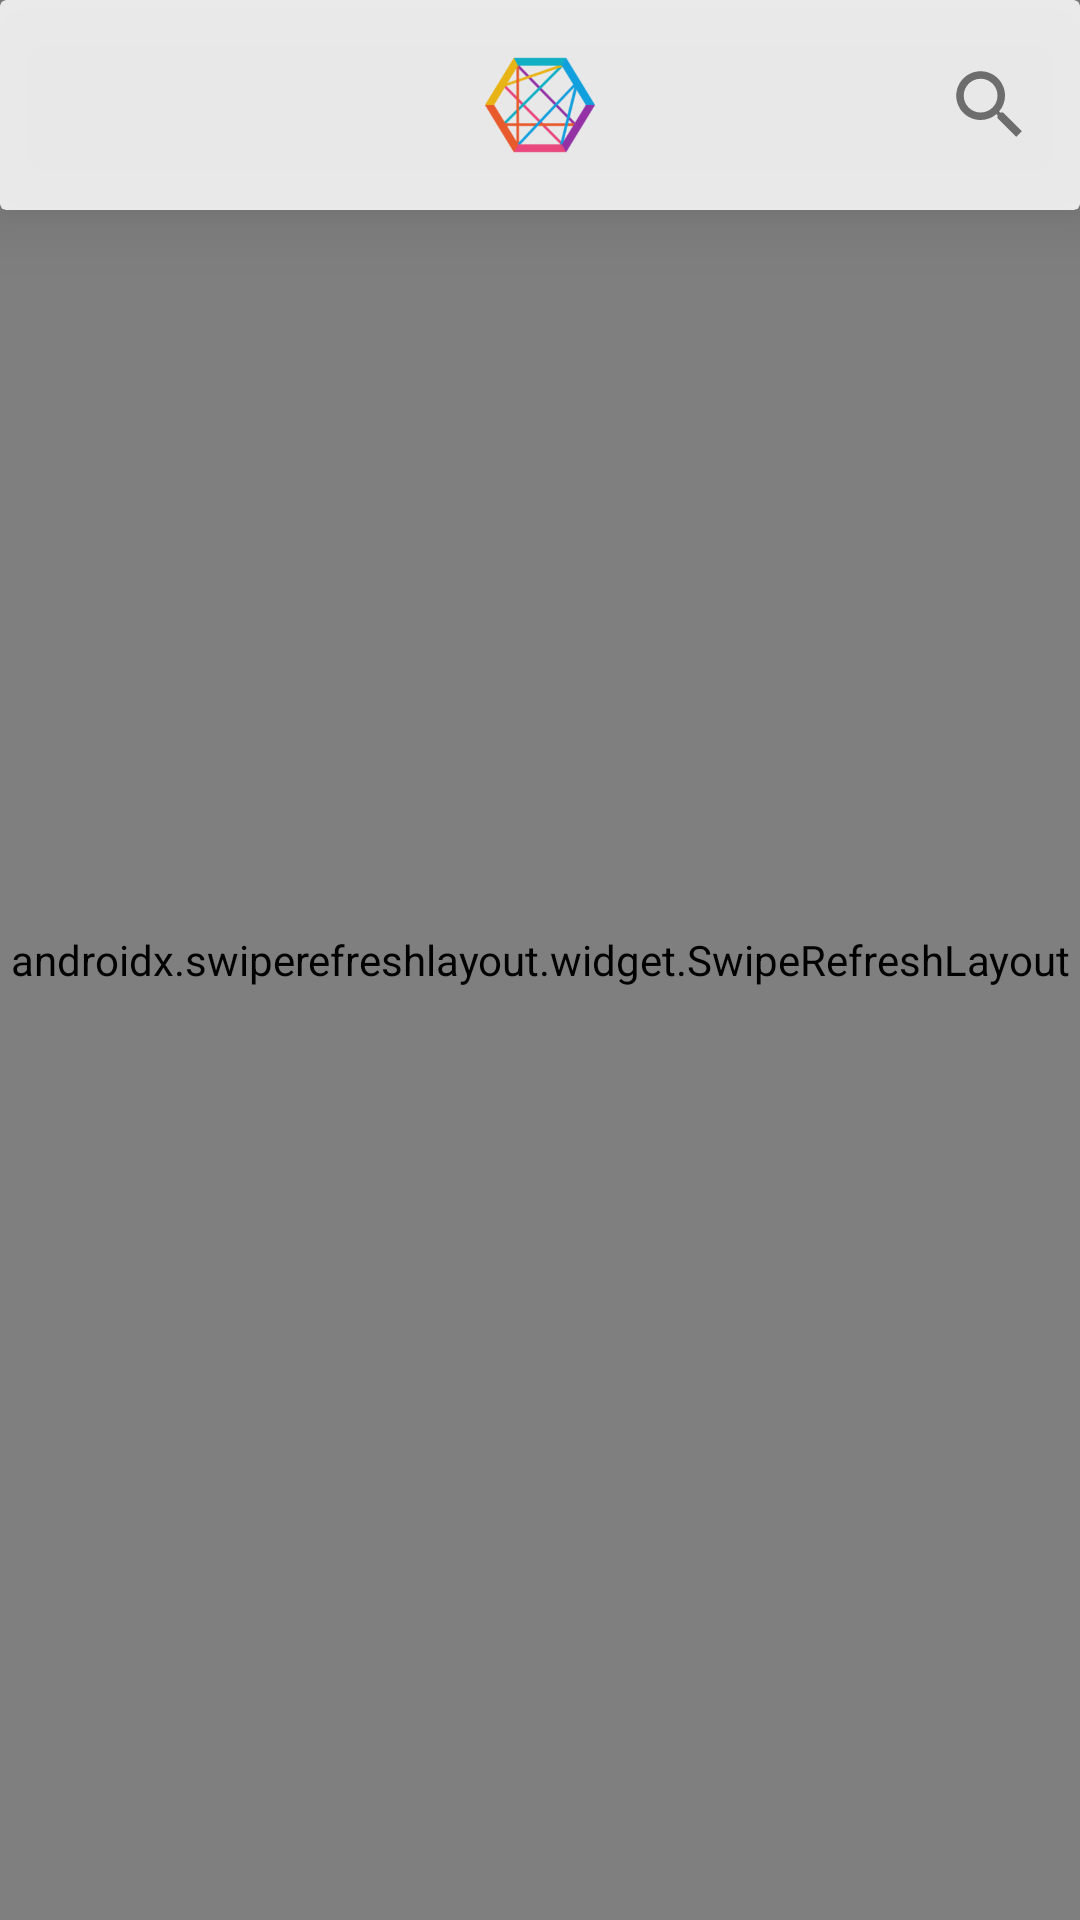

Icon click points for this 1080px x 1920px phone screenshot, format (x=x, y=y):
search: (x=989, y=104)
